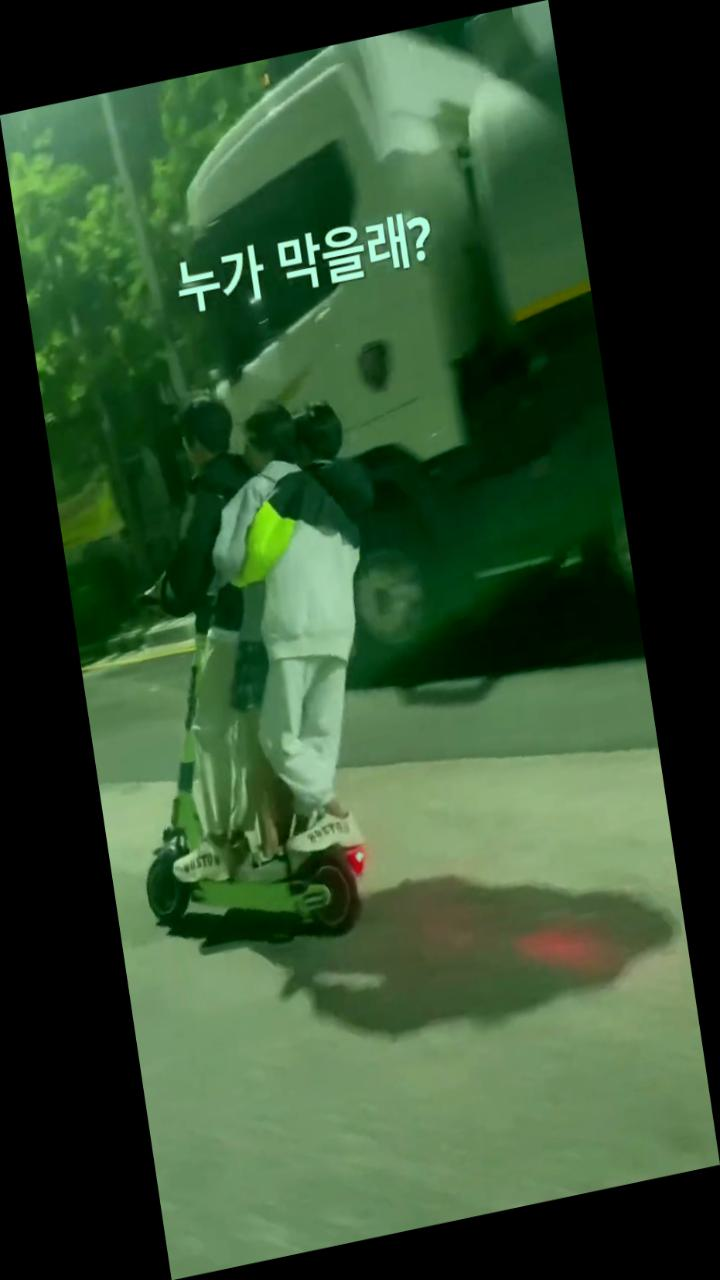multiple: (74, 360, 440, 973)
